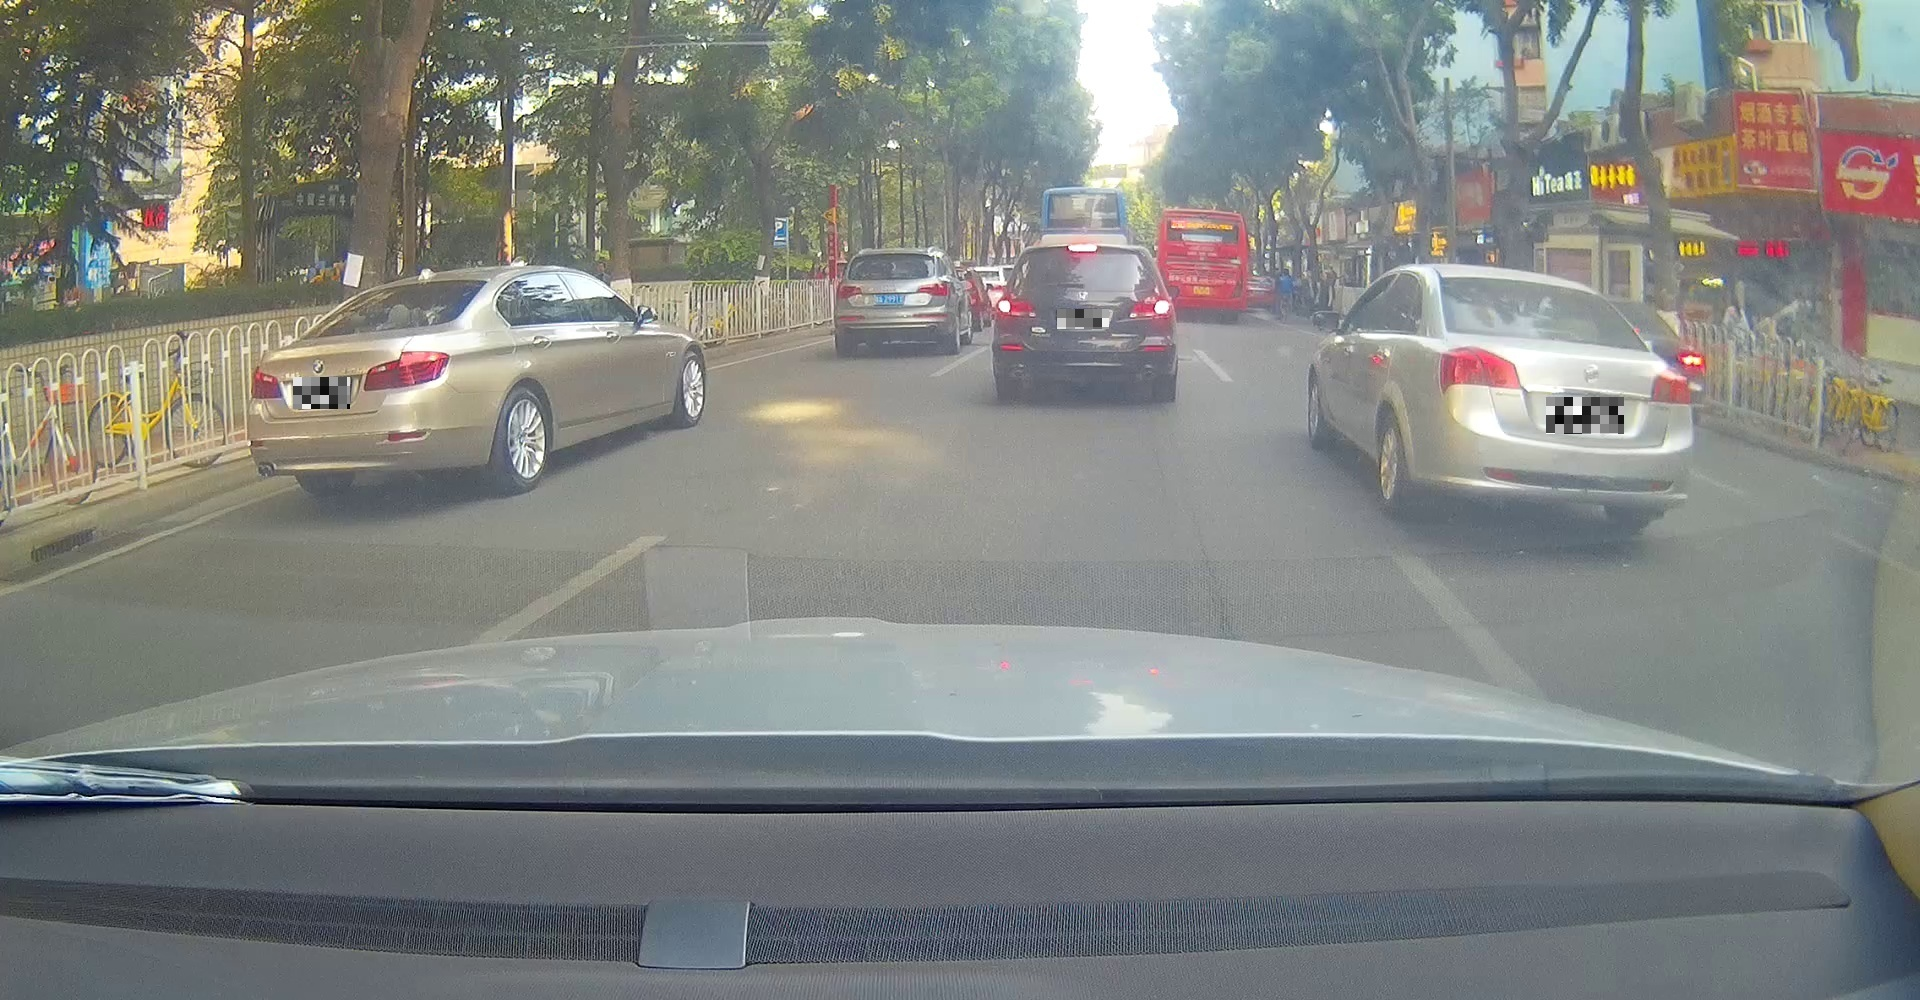L_light: (1437, 345, 1523, 395), (249, 365, 283, 400), (996, 294, 1035, 319), (836, 283, 863, 299)
R_light: (363, 352, 450, 392), (1650, 365, 1691, 405), (1128, 294, 1173, 319), (916, 280, 951, 297)
T_light: (1068, 242, 1098, 253), (1517, 280, 1544, 289), (408, 283, 430, 291), (886, 253, 899, 258)
day-brake: (993, 242, 1175, 398)
day-no: (1435, 264, 1694, 530), (245, 265, 491, 492), (834, 247, 952, 355)
plate_1: (293, 377, 350, 409)
plate_2: (1057, 308, 1109, 329)
plate_3: (1545, 397, 1624, 434)
